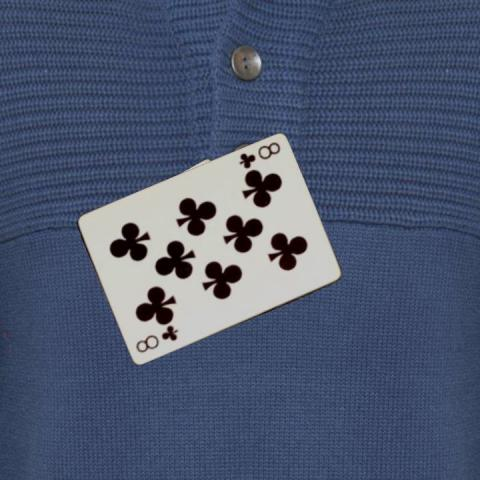8c: (235, 139, 282, 171), (133, 323, 179, 355)
